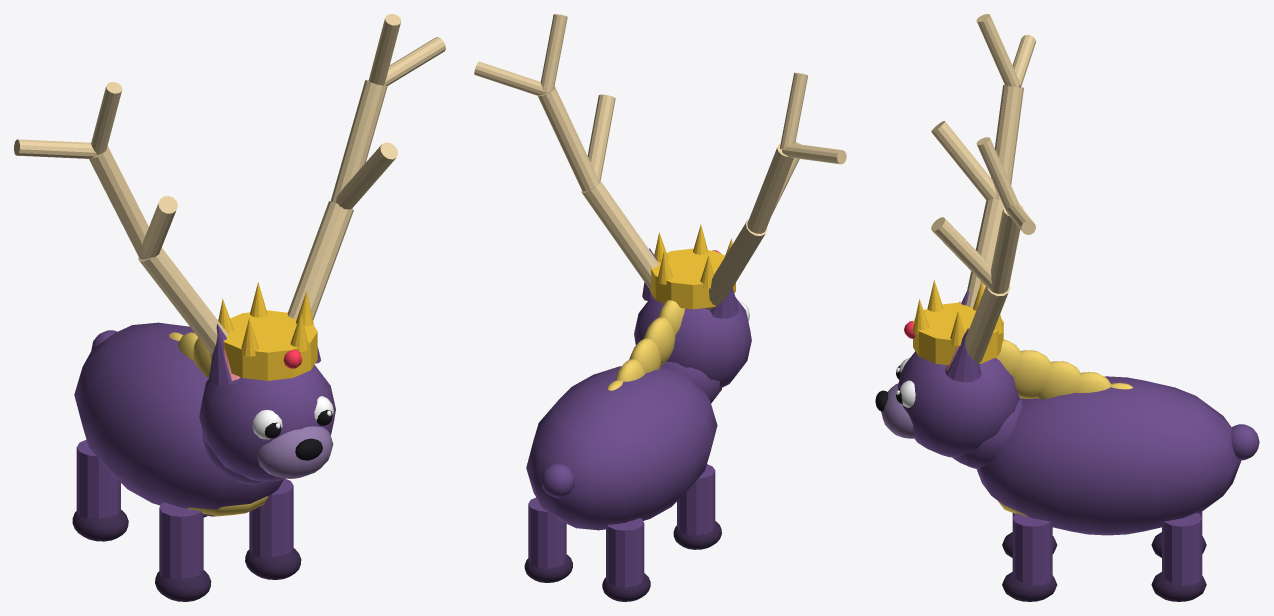
3 renders of one model, left to right at view 1: azimuth 30°, elevation 25°; view 2: azimuth 150°, elevation 25°; view 3: azimuth 270°, elevation 25°, orthographic. The views are drawn at different scales.
Parts seen in each view (by area): view 1: Antler King; view 2: Antler King; view 3: Antler King.
Part boxes in pixels (box(x1,y1,x2,y2)): Antler King: box(14, 14, 445, 601); Antler King: box(474, 14, 846, 601); Antler King: box(875, 14, 1259, 601).
Bounding box in the file's own units: 4.44 × 5.5 × 3.82.
Materials: 1 (1 with a texture image).
